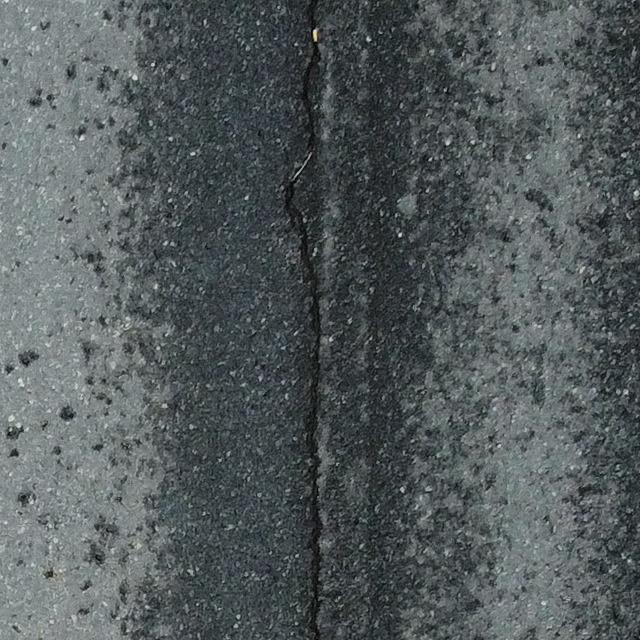LongitudinalCrack: (283, 1, 321, 640)
